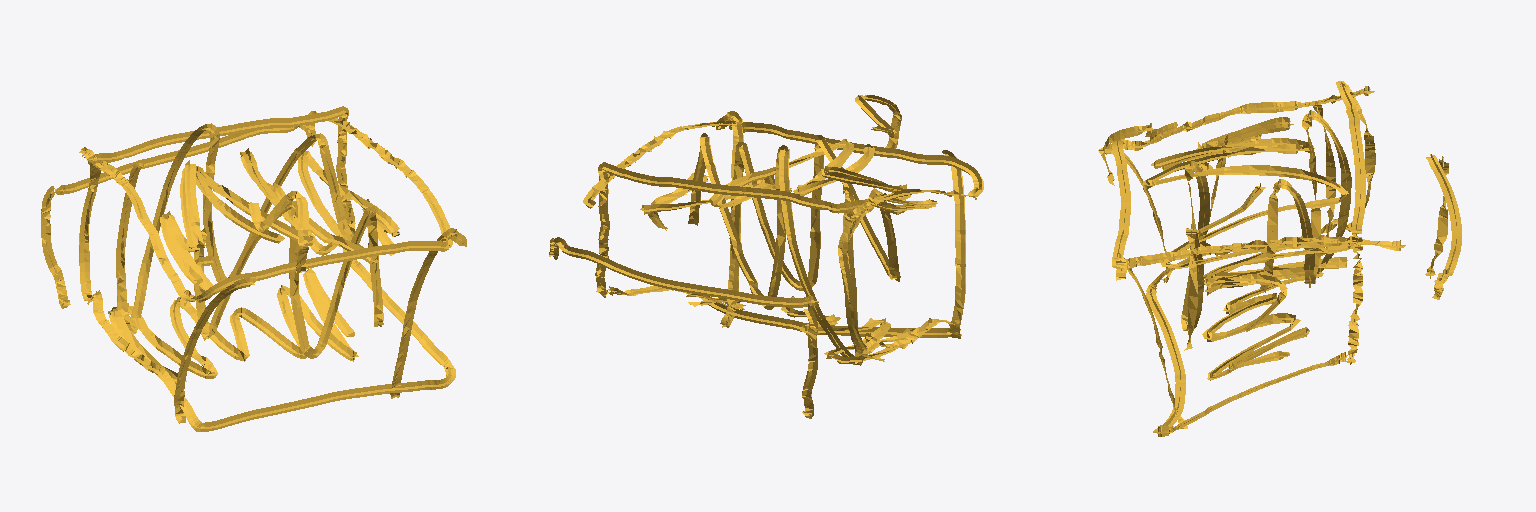
The picture shows the model from 3 angles: view 1: azimuth 30°, elevation 25°; view 2: azimuth 150°, elevation 25°; view 3: azimuth 270°, elevation 25°; orthographic projection.
Size of the model in its own units: 0.631 by 0.5425 by 0.6931.
1 materials, 1 textured.